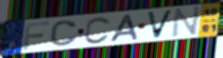A: (109, 13, 141, 43)
C: (83, 16, 112, 45), (49, 20, 79, 48)
F: (22, 21, 51, 51)
N: (170, 5, 202, 39)
V: (145, 9, 175, 40)
